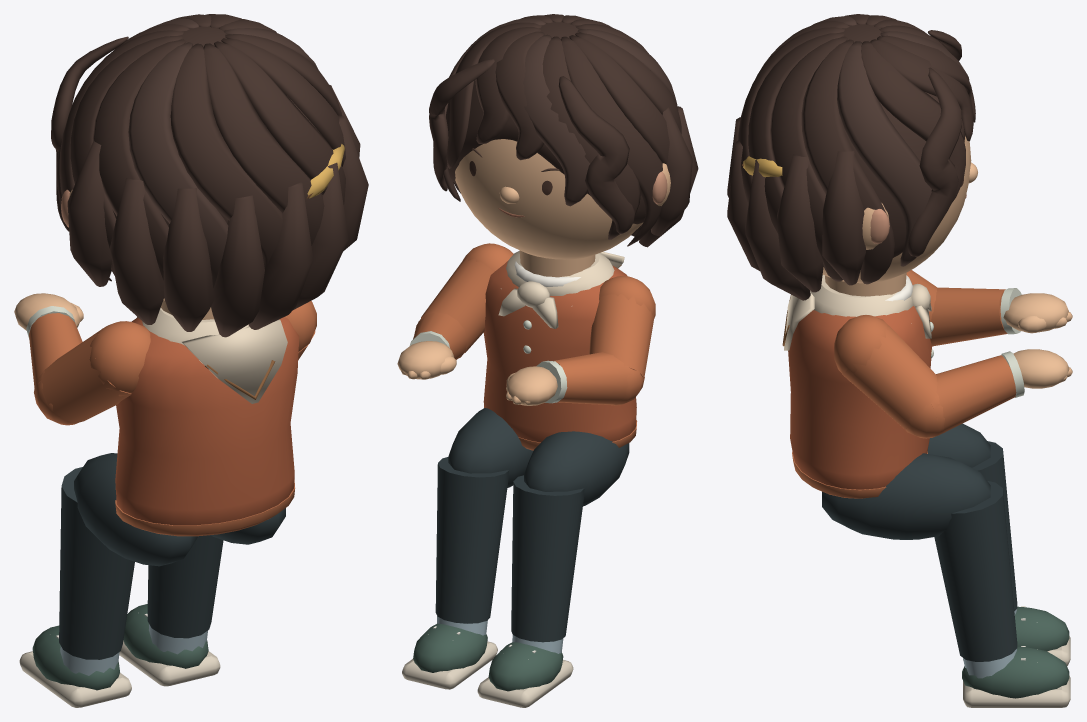
Rendered from employee-0.glb.
3 views of the same model, side by side, from view 1: azimuth 30°, elevation 25°; view 2: azimuth 150°, elevation 25°; view 3: azimuth 270°, elevation 25° (orthographic). The views are drawn at different scales.
Visible parts, largest first — view 1: Head, Body, Shin_L, Arm_L, Shin_R, Thigh_L, Foot_L, Foot_R, Forearm_L, Thigh_R, Arm_R; view 2: Head, Body, Shin_R, Shin_L, Thigh_L, Forearm_L, Arm_L, Foot_L, Foot_R, Thigh_R, Arm_R, Forearm_R; view 3: Head, Body, Shin_R, Thigh_R, Arm_R, Forearm_L, Forearm_R, Foot_R, Foot_L, Thigh_L, Shin_L.
Boxes of the visible parts, box(x1,y1,x2,y2) form: Head: box(51, 14, 368, 337); Body: box(115, 300, 299, 536); Shin_L: box(59, 467, 134, 659); Arm_L: box(34, 321, 150, 425); Shin_R: box(147, 535, 223, 638); Thigh_L: box(74, 453, 197, 566); Foot_L: box(19, 625, 131, 707); Foot_R: box(119, 604, 220, 686); Forearm_L: box(14, 293, 83, 394); Thigh_R: box(210, 508, 285, 544); Arm_R: box(284, 301, 316, 359); Head: box(429, 14, 698, 259); Body: box(483, 250, 637, 450); Shin_R: box(435, 457, 508, 623); Shin_L: box(511, 475, 584, 642); Thigh_L: box(524, 431, 629, 506); Forearm_L: box(506, 352, 633, 405); Arm_L: box(589, 276, 655, 405); Foot_L: box(477, 635, 573, 707); Foot_R: box(402, 616, 497, 689); Thigh_R: box(448, 408, 533, 487); Arm_R: box(414, 243, 513, 357); Forearm_R: box(397, 312, 467, 379); Head: box(727, 14, 977, 300); Body: box(782, 272, 933, 498); Shin_R: box(934, 481, 1017, 661); Thigh_R: box(822, 453, 990, 539); Arm_R: box(834, 315, 944, 438); Forearm_L: box(930, 287, 1072, 345); Forearm_R: box(931, 349, 1072, 435); Foot_R: box(962, 646, 1070, 707); Foot_L: box(963, 606, 1070, 665); Thigh_L: box(927, 423, 990, 467); Shin_L: box(972, 441, 1017, 610).
Bounding box in the file's own units: 0.8038 × 1.88 × 0.9092.
